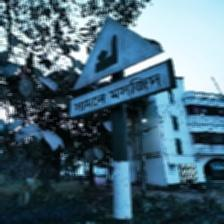Mosque in front: (69, 15, 175, 119)
